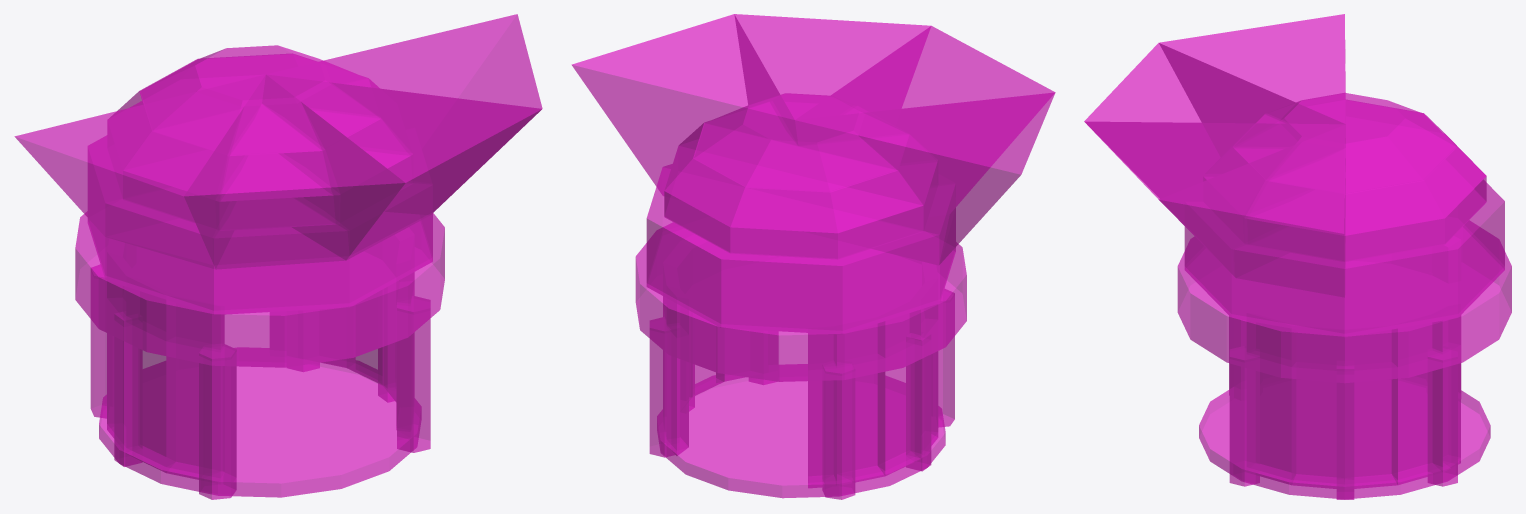
File: SM_Bld_Entrance_01_Collision.fbx
3 renders of one model, left to right at view 1: azimuth 30°, elevation 25°; view 2: azimuth 150°, elevation 25°; view 3: azimuth 270°, elevation 25°, orthographic. The views are drawn at different scales.
Visible parts, largest first — view 1: SM_Bld_Entrance_01_Collision; view 2: SM_Bld_Entrance_01_Collision; view 3: SM_Bld_Entrance_01_Collision.
Part boxes in pixels (x1,y1,x2,y2): SM_Bld_Entrance_01_Collision: (14, 14, 542, 499); SM_Bld_Entrance_01_Collision: (572, 14, 1055, 499); SM_Bld_Entrance_01_Collision: (1084, 14, 1511, 499).
Bounding box in the file's own units: 898 × 609 × 738.
